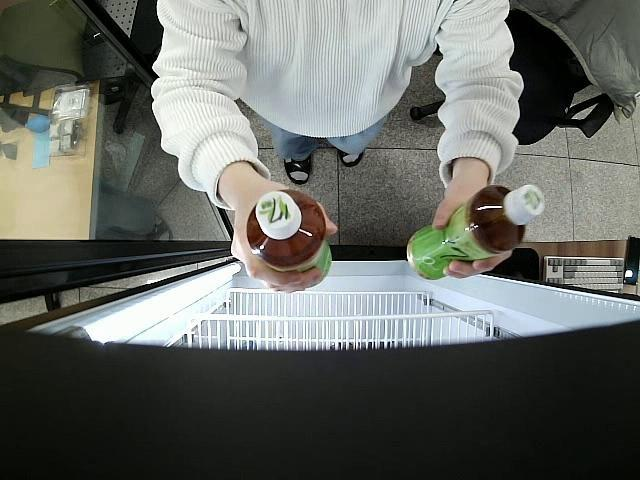19_17cha: (406, 184, 544, 282), (247, 188, 331, 288)
